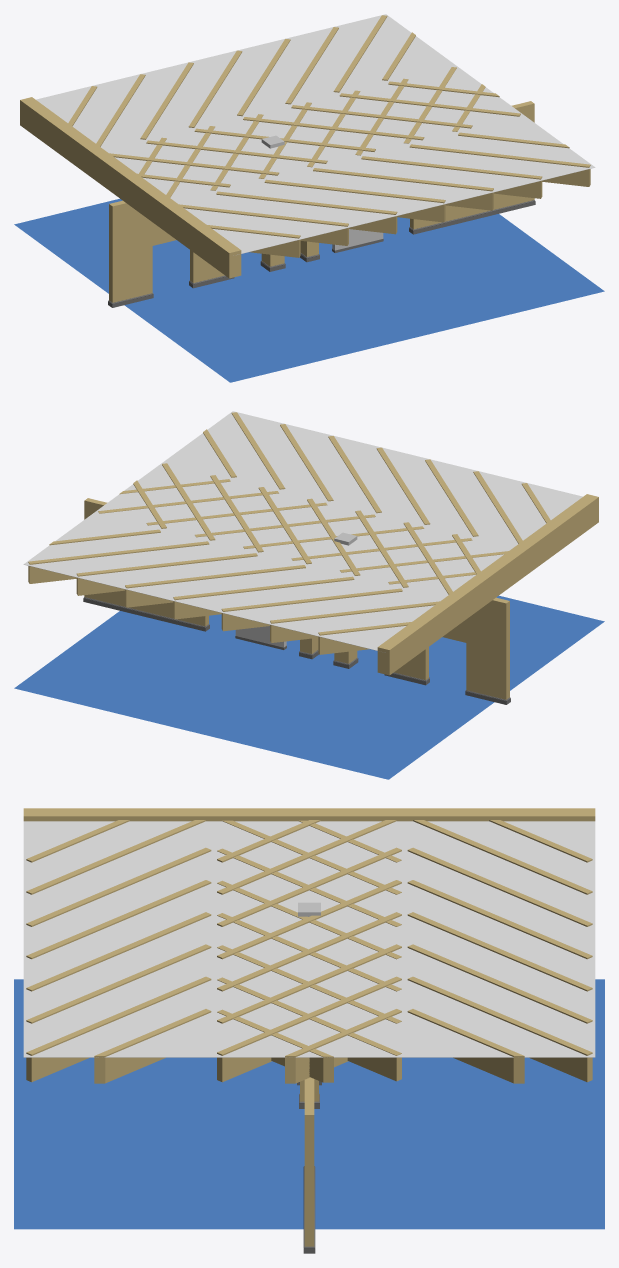
Rendered from Building.fbx.
The picture shows the model from 3 angles, top to bottom: view 1: azimuth 30°, elevation 25°; view 2: azimuth 150°, elevation 25°; view 3: azimuth 270°, elevation 25°; orthographic projection. The views are drawn at different scales.
Parts seen in each view (by area): view 1: Glass, Floor, Beams_1, Beam, Beams_3, Wall_With_Door, Beams_2, Wall, Skirting_Boards_2, Short_Wall, Skirting_Boards; view 2: Glass, Floor, Beams_2, Beam, Beams_3, Wall_With_Door, Beams_1, Wall, Skirting_Boards_2, Short_Wall, Skirting_Boards; view 3: Glass, Floor, Beams_3, Beams_1, Beams_2, Beam, Wall.
Boxes of the visible parts, box(x1,y1,x2,y2) form: Glass: box(36, 14, 595, 255); Floor: box(14, 198, 604, 382); Beams_1: box(179, 132, 590, 257); Beam: box(20, 97, 241, 278); Beams_3: box(109, 67, 520, 197); Wall_With_Door: box(109, 200, 224, 302); Beams_2: box(68, 15, 415, 146); Wall: box(410, 101, 534, 229); Skirting_Boards_2: box(409, 200, 535, 234); Short_Wall: box(332, 229, 383, 252); Skirting_Boards: box(108, 275, 234, 307); Glass: box(23, 411, 582, 652); Floor: box(14, 595, 604, 779); Beams_2: box(28, 529, 439, 654); Beam: box(377, 494, 598, 675); Beams_3: box(98, 463, 508, 594); Wall_With_Door: box(394, 597, 509, 699); Beams_1: box(203, 412, 550, 543); Wall: box(84, 498, 208, 626); Skirting_Boards_2: box(83, 597, 209, 631); Short_Wall: box(235, 626, 286, 649); Skirting_Boards: box(384, 672, 510, 704); Glass: box(23, 821, 595, 1057); Floor: box(14, 979, 604, 1229); Beams_3: box(217, 820, 401, 1083); Beams_1: box(26, 820, 211, 1083); Beams_2: box(407, 820, 592, 1083); Beam: box(23, 808, 595, 821); Wall: box(304, 1077, 314, 1246).
Bounding box in the file's own units: 1750 × 500 × 1550.
